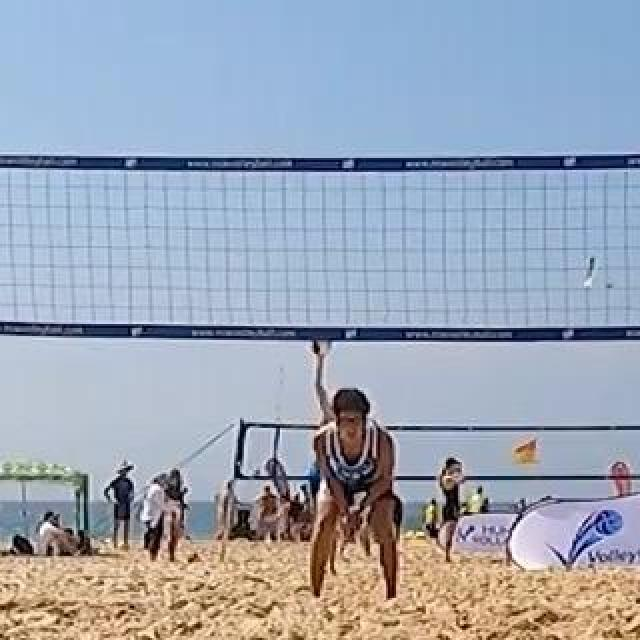volleyball: (310, 333, 332, 355)
